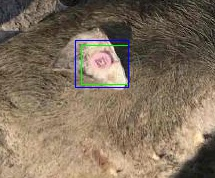text: (81, 45, 128, 84)
